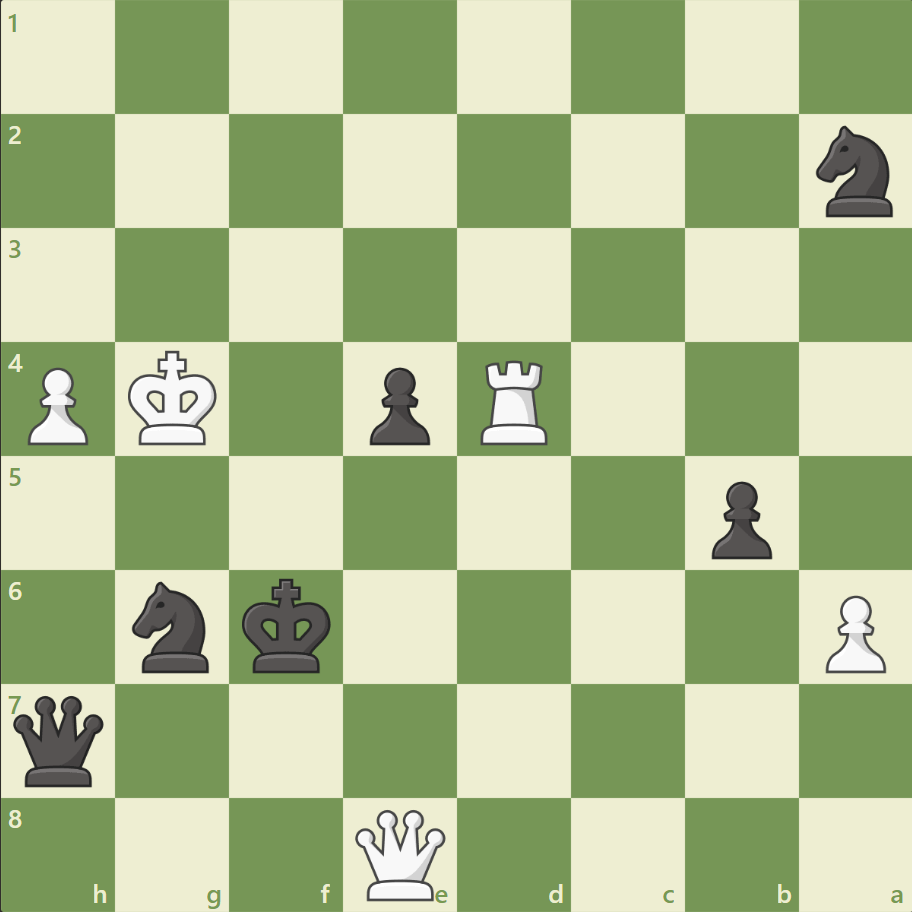K: (124, 344, 224, 452)
P: (20, 359, 95, 450), (815, 586, 889, 677)
Q: (351, 804, 450, 903)
R: (473, 352, 556, 449)
k: (238, 571, 338, 679)
n: (124, 575, 222, 677), (806, 121, 903, 223)
p: (701, 473, 776, 564), (361, 359, 435, 450)
q: (10, 690, 109, 789)
